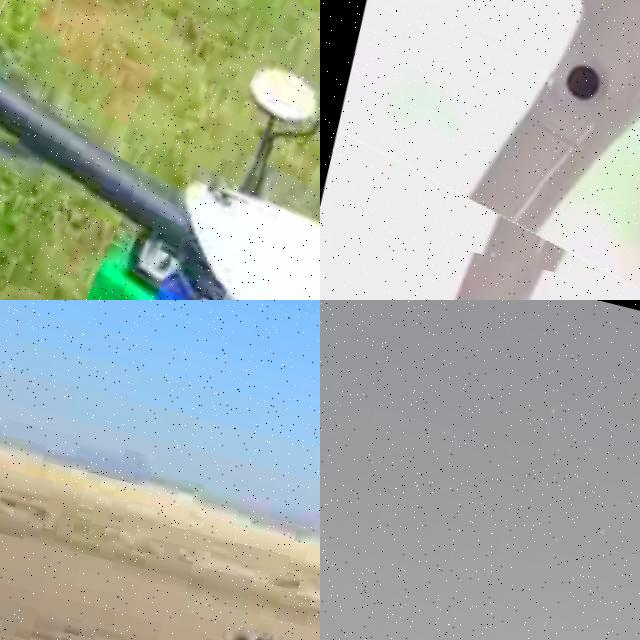0: (0, 0, 320, 300)
drone: (320, 0, 640, 300)
